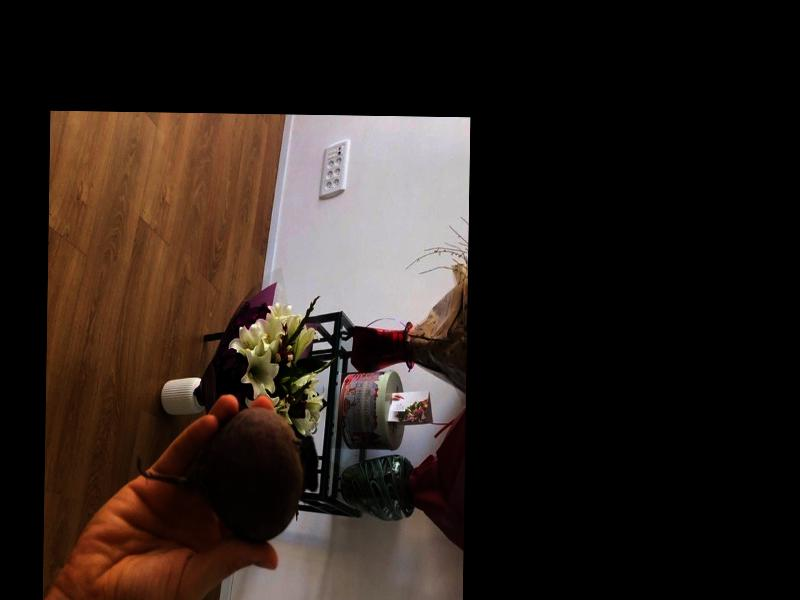Beet: (136, 404, 319, 542)
